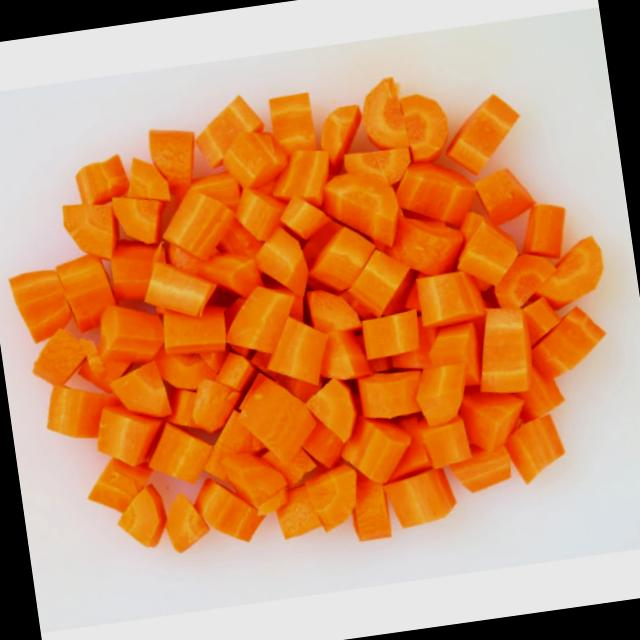ca rot: (11, 79, 604, 551), (446, 96, 518, 173)
